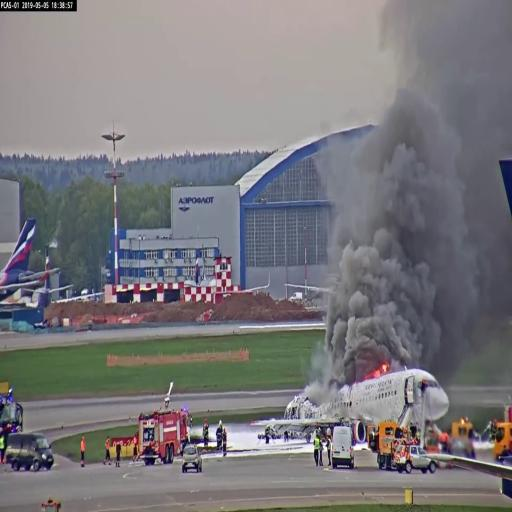smoke: (343, 77, 442, 365)
